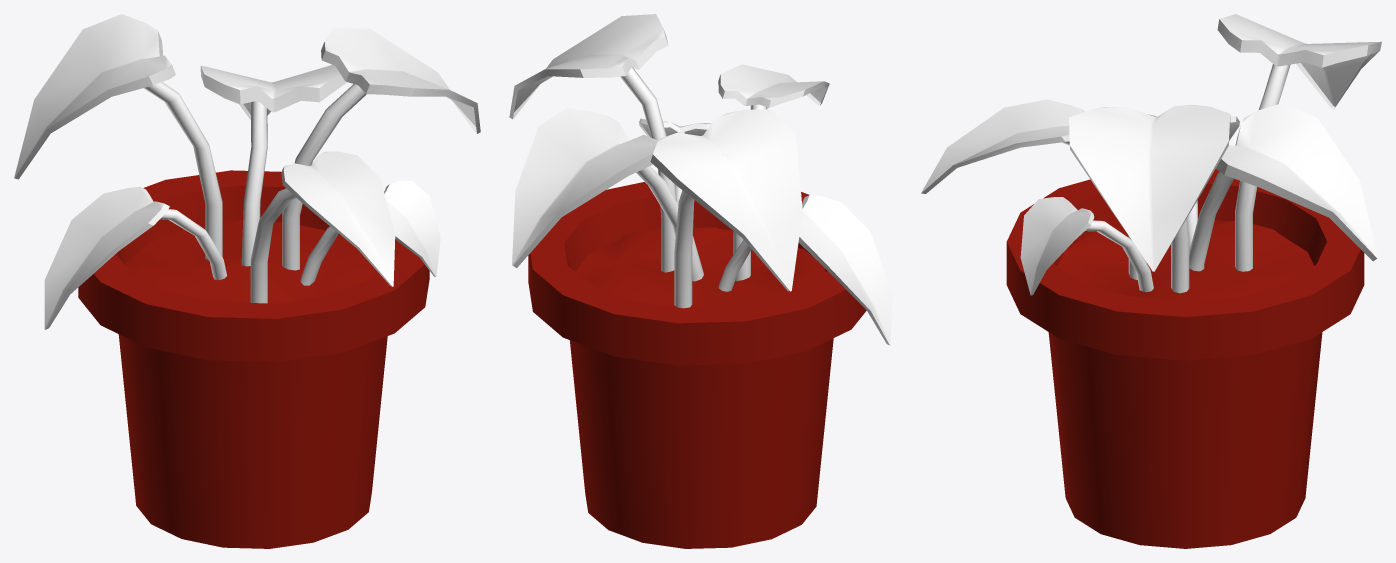
File: SM_Plant_01.fbx
3 views of the same model, side by side, from view 1: azimuth 30°, elevation 25°; view 2: azimuth 150°, elevation 25°; view 3: azimuth 270°, elevation 25° (orthographic). The views are drawn at different scales.
Visible parts, largest first — view 1: SM_Plant_01; view 2: SM_Plant_01; view 3: SM_Plant_01.
Part boxes in pixels (x1,y1,x2,y2): SM_Plant_01: (14, 14, 480, 548); SM_Plant_01: (509, 14, 892, 548); SM_Plant_01: (921, 14, 1381, 548).
Size of the model in its own units: 18.48 by 18.54 by 17.76.
